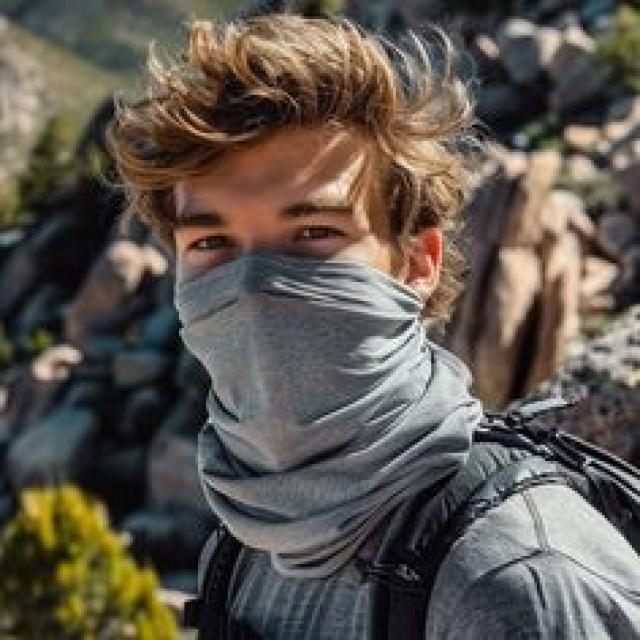8_ropa_rostro: (176, 248, 418, 387)
